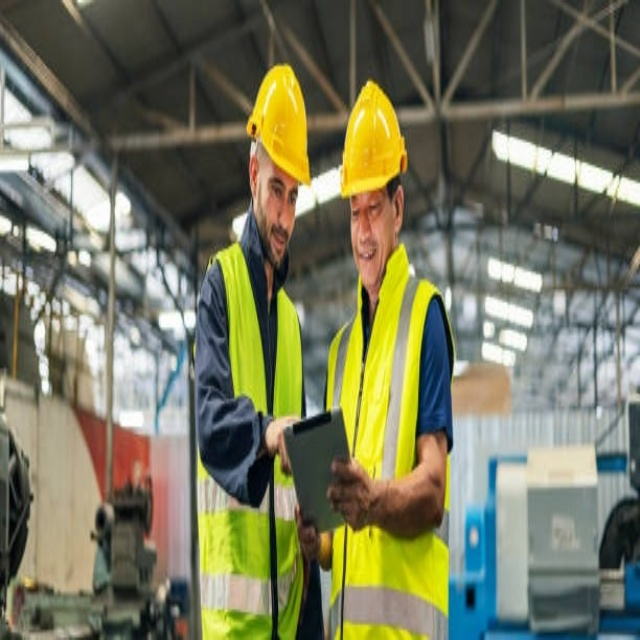Sin_gafas: (260, 155, 298, 213), (348, 190, 386, 231)
Sin_guantes: (327, 455, 380, 535), (262, 412, 300, 463), (294, 499, 321, 567)
Sin_mascara: (355, 241, 379, 279), (270, 218, 285, 262)
